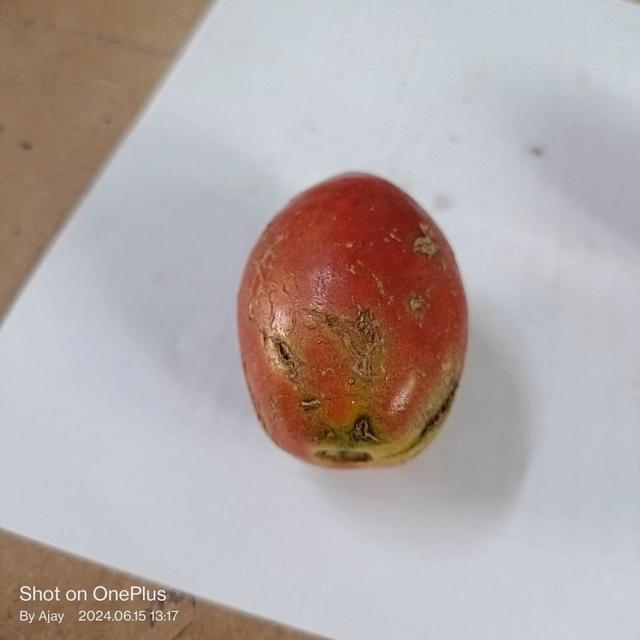Bacterial Spot Fruit: (10, 9, 284, 288)
